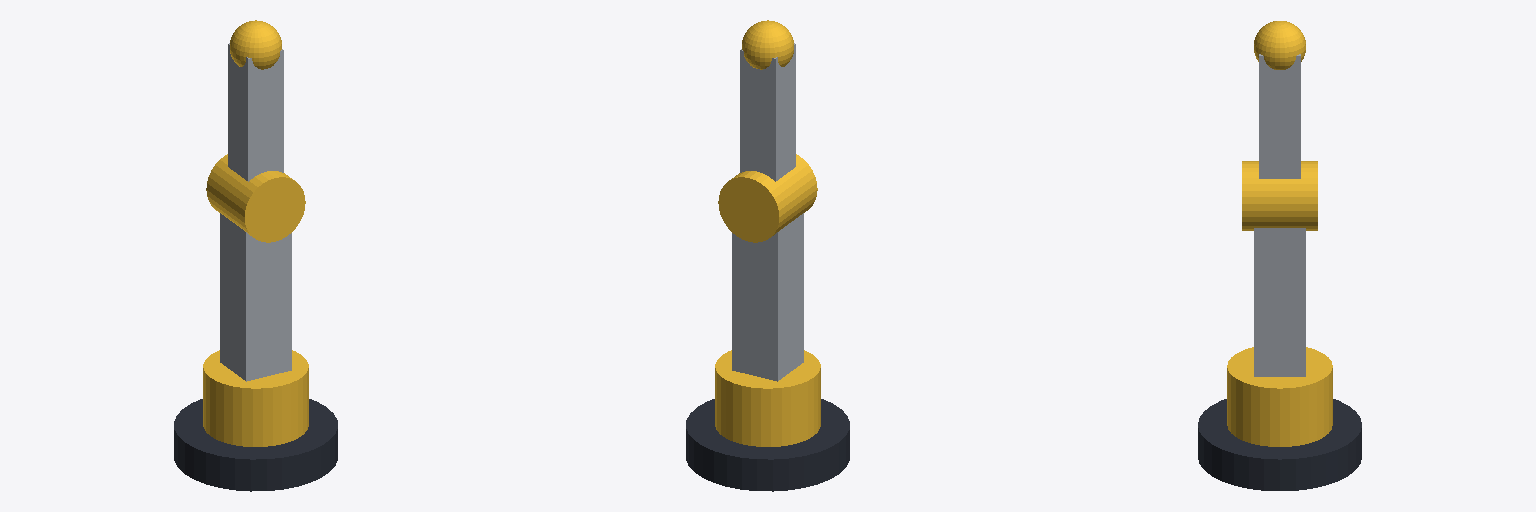
The robot description file, URDF, robot "lysark-arm":
<?xml version="1.0"?>
<!-- Dev-stand 3-DOF arm, primitive geometry only (no mesh assets). -->
<robot name="lysark-arm">
  <link name="base_link">
    <visual>
      <origin xyz="0 0 0.03"/>
      <geometry><cylinder radius="0.14" length="0.06"/></geometry>
      <material name="graphite"><color rgba="0.22 0.24 0.28 1"/></material>
    </visual>
  </link>

  <joint name="joint1" type="revolute">
    <parent link="base_link"/>
    <child link="shoulder"/>
    <origin xyz="0 0 0.06"/>
    <axis xyz="0 0 1"/>
    <limit lower="-3.1416" upper="3.1416" effort="50" velocity="3"/>
  </joint>

  <link name="shoulder">
    <visual>
      <origin xyz="0 0 0.055"/>
      <geometry><cylinder radius="0.09" length="0.11"/></geometry>
      <material name="signal"><color rgba="0.961 0.773 0.259 1"/></material>
    </visual>
  </link>

  <joint name="joint2" type="revolute">
    <parent link="shoulder"/>
    <child link="upper_arm"/>
    <origin xyz="0 0 0.11"/>
    <axis xyz="0 1 0"/>
    <limit lower="-1.9" upper="1.9" effort="50" velocity="3"/>
  </joint>

  <link name="upper_arm">
    <visual>
      <origin xyz="0 0 0.16"/>
      <geometry><box size="0.09 0.09 0.32"/></geometry>
      <material name="steel"><color rgba="0.70 0.72 0.75 1"/></material>
    </visual>
    <visual>
      <origin xyz="0 0 0.32" rpy="1.5708 0 0"/>
      <geometry><cylinder radius="0.06" length="0.13"/></geometry>
      <material name="signal2"><color rgba="0.961 0.773 0.259 1"/></material>
    </visual>
  </link>

  <joint name="joint3" type="revolute">
    <parent link="upper_arm"/>
    <child link="forearm"/>
    <origin xyz="0 0 0.32"/>
    <axis xyz="0 1 0"/>
    <limit lower="-2.4" upper="2.4" effort="50" velocity="3"/>
  </joint>

  <link name="forearm">
    <visual>
      <origin xyz="0 0 0.14"/>
      <geometry><box size="0.07 0.07 0.28"/></geometry>
      <material name="steel2"><color rgba="0.70 0.72 0.75 1"/></material>
    </visual>
  </link>

  <joint name="ee_fixed" type="fixed">
    <parent link="forearm"/>
    <child link="end_effector"/>
    <origin xyz="0 0 0.28"/>
  </joint>

  <link name="end_effector">
    <visual>
      <geometry><sphere radius="0.045"/></geometry>
      <material name="signal3"><color rgba="0.961 0.773 0.259 1"/></material>
    </visual>
  </link>
</robot>

--- Render facts (derived) ---
Views: 3 orthographic renders of the robot side by side, from view 1: azimuth 30°, elevation 25°; view 2: azimuth 150°, elevation 25°; view 3: azimuth 270°, elevation 25°.
Model lysark-arm with 5 links and 4 joints (3 revolute, 1 fixed), rooted at base_link, posed every joint at zero.
Visible links, largest first — view 1: upper_arm, base_link, shoulder, forearm, end_effector; view 2: upper_arm, base_link, shoulder, forearm, end_effector; view 3: upper_arm, base_link, shoulder, forearm, end_effector.
Link boxes in pixels (box(x1,y1,x2,y2)): upper_arm: box(206, 154, 305, 381); base_link: box(174, 399, 337, 491); shoulder: box(203, 350, 308, 446); forearm: box(228, 43, 283, 181); end_effector: box(230, 20, 281, 69); upper_arm: box(718, 154, 817, 381); base_link: box(686, 399, 849, 491); shoulder: box(715, 350, 820, 446); forearm: box(740, 43, 795, 181); end_effector: box(742, 20, 793, 69); upper_arm: box(1242, 161, 1317, 376); base_link: box(1198, 399, 1361, 490); shoulder: box(1227, 347, 1332, 446); forearm: box(1259, 54, 1300, 178); end_effector: box(1254, 21, 1305, 69).
Size in the robot's own frame: 0.28 by 0.28 by 0.815 metres.
Geometry: primitives only (box / cylinder / sphere), no mesh files.
